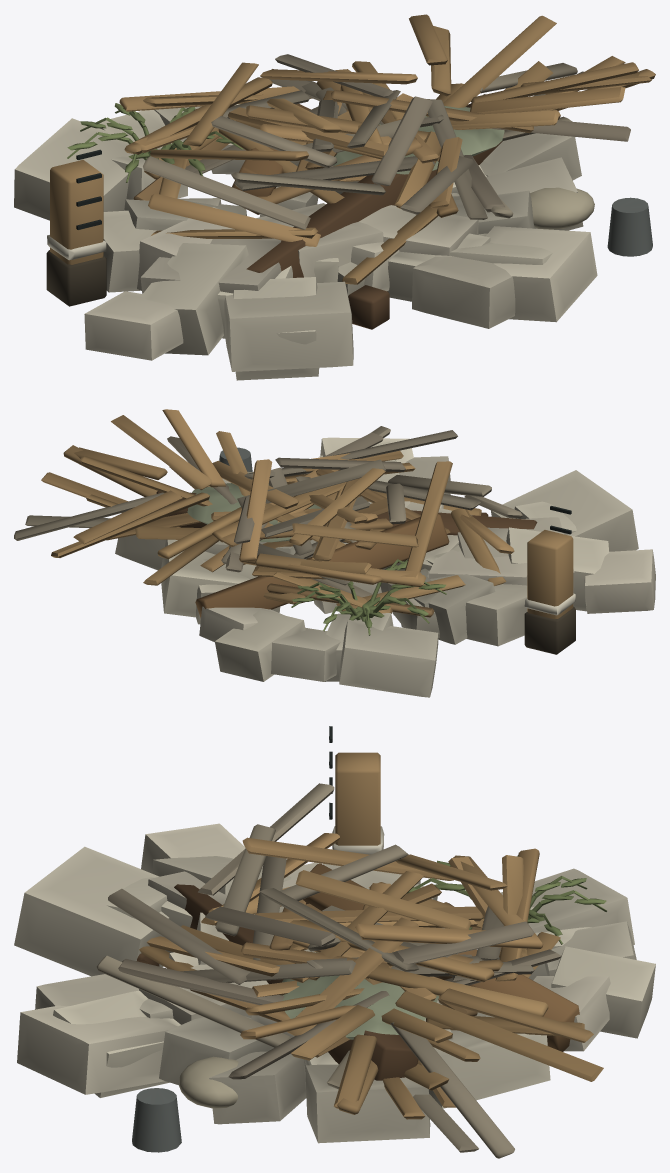
File: gallery_collapse_b_lod1.glb
3 renders of one model, top to bottom at view 1: azimuth 30°, elevation 25°; view 2: azimuth 150°, elevation 25°; view 3: azimuth 270°, elevation 25°, orthographic. The views are drawn at different scales.
Parts seen in each view (by area): view 1: Surface.001; view 2: Surface.001; view 3: Surface.001.
Part boxes in pixels (box(x1,y1,x2,y2)): Surface.001: box(14, 14, 655, 380); Surface.001: box(14, 409, 655, 697); Surface.001: box(14, 726, 655, 1158).
Bounding box in the file's own units: 7.9 × 1.96 × 6.38.
